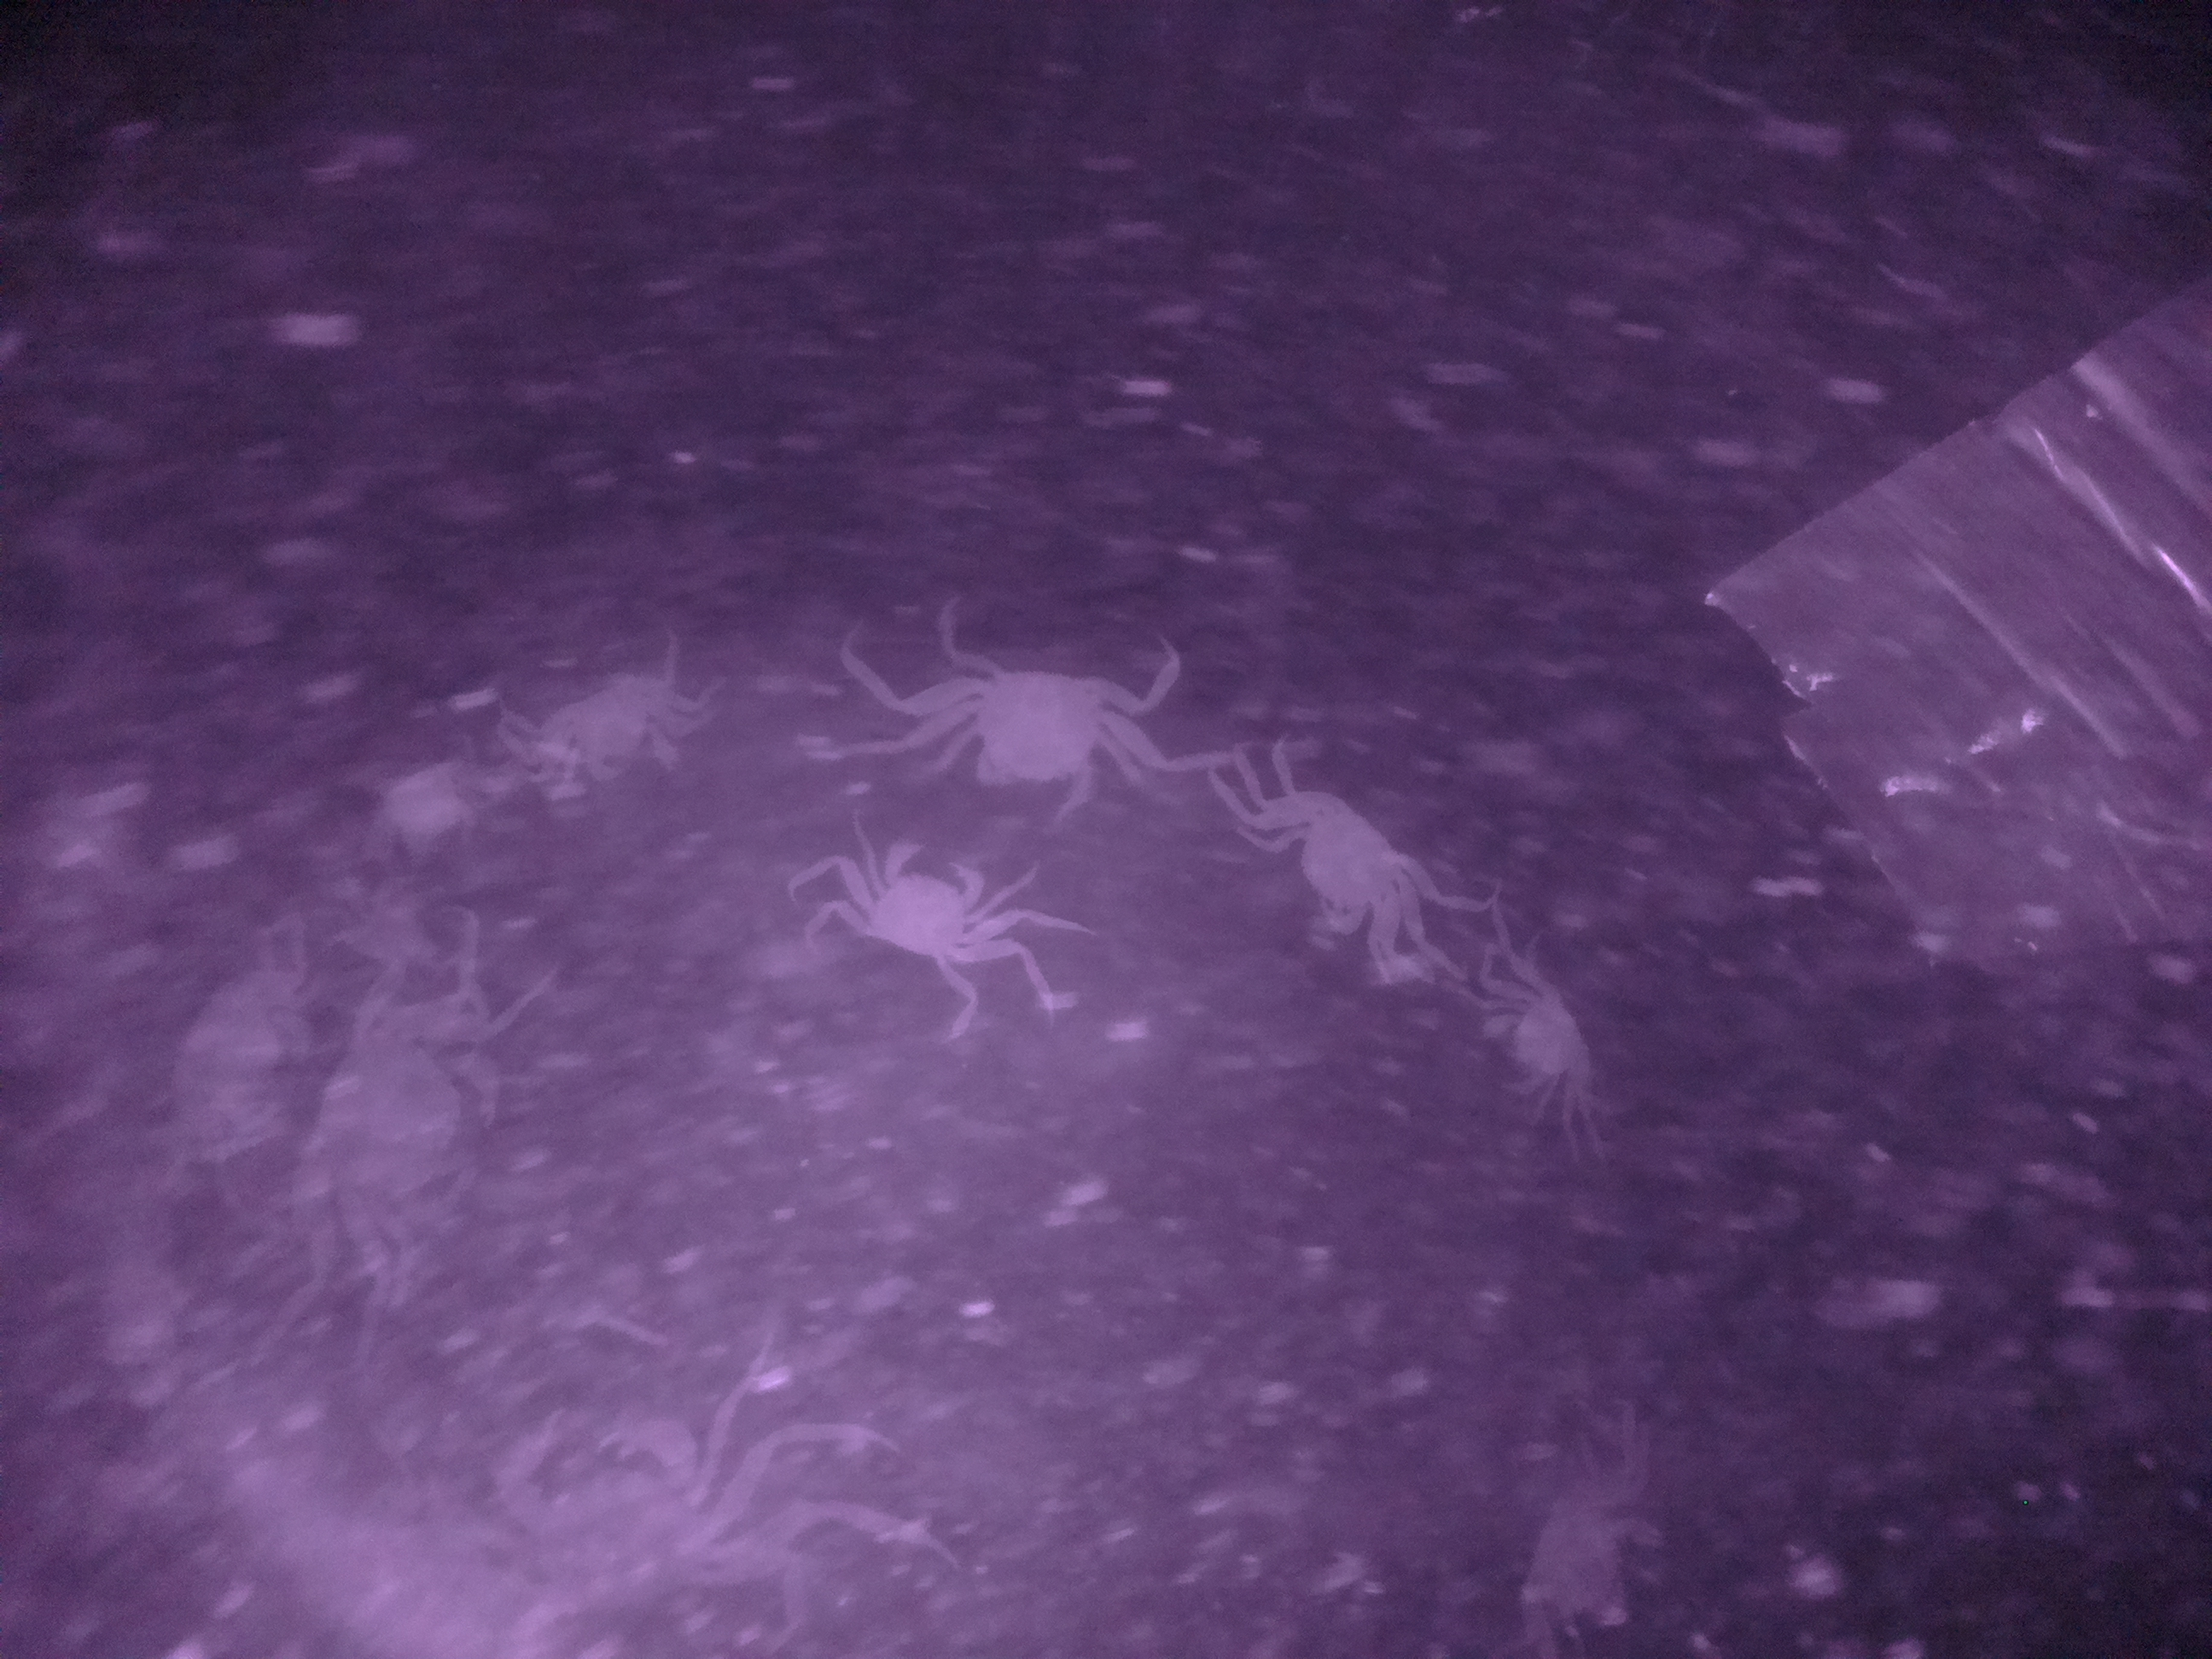Crab: (1235, 755, 1446, 965), (916, 650, 1163, 809), (831, 847, 998, 981)
